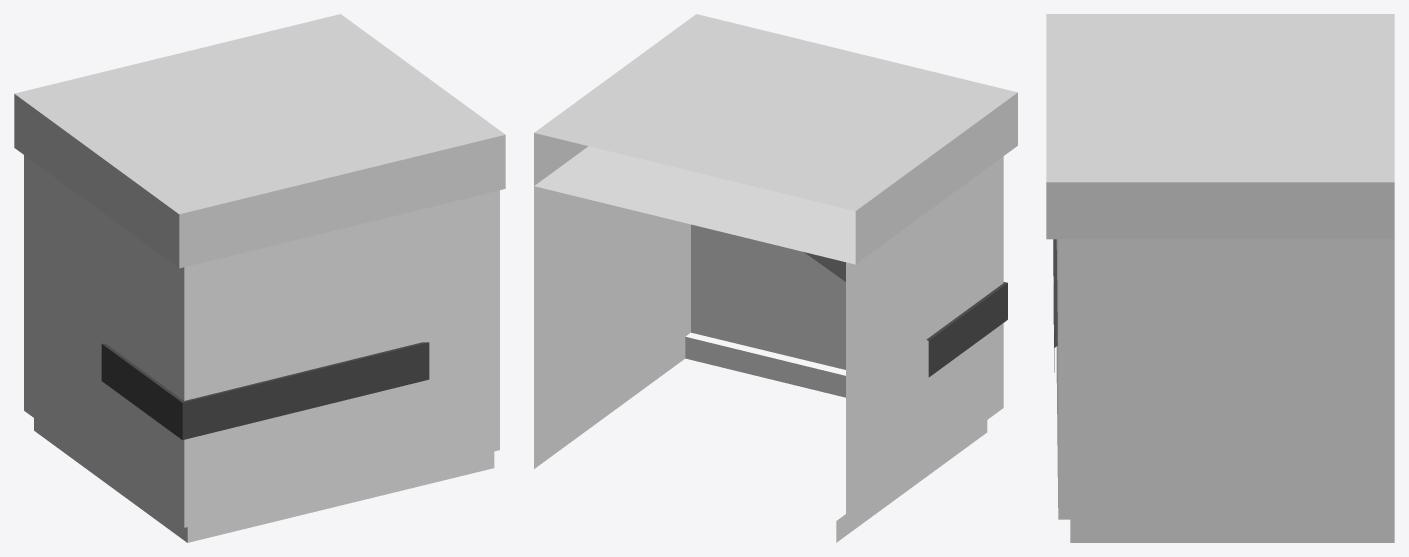
File: table_g.fbx
The picture shows the model from 3 angles, left to right: view 1: azimuth 30°, elevation 25°; view 2: azimuth 150°, elevation 25°; view 3: azimuth 270°, elevation 25°; orthographic projection. The views are drawn at different scales.
Visible parts, largest first — view 1: table_g; view 2: table_g; view 3: table_g.
Part boxes in pixels (<box>): table_g: <box>14,14,505,542</box>; table_g: <box>534,14,1017,542</box>; table_g: <box>1046,14,1394,542</box>.
Size of the model in its own units: 1 by 1 by 0.875.
